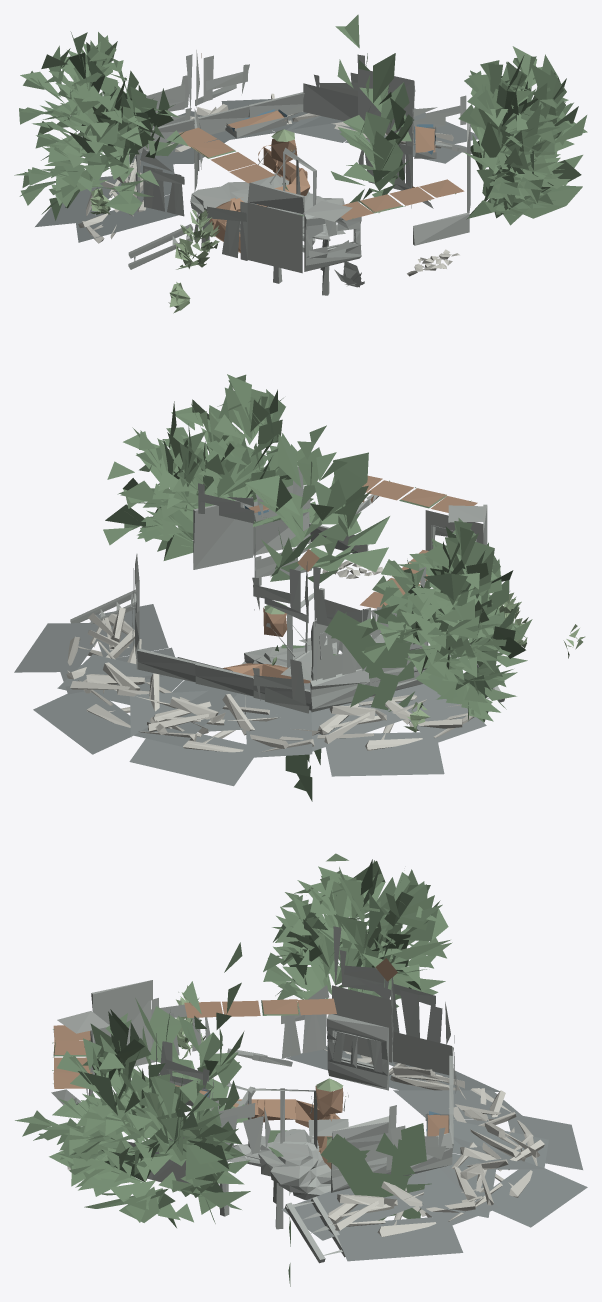
The model's file is water_well_b.glb.
3 views of the same model, one above another, from view 1: azimuth 30°, elevation 25°; view 2: azimuth 150°, elevation 25°; view 3: azimuth 270°, elevation 25° (orthographic). The views are drawn at different scales.
Parts seen in each view (by area): view 1: creeping_plant_fall_a_LOD0, conc_pile_3x6_LOD0, small_planter_soil, driftwood_set_2_LOD0, water_well_handle_LOD0, ground_cloth_a_LOD0; view 2: creeping_plant_fall_a_LOD0, driftwood_set_2_LOD0, conc_pile_3x6_LOD0, ground_cloth_a_LOD0, small_planter_soil, water_well_handle_LOD0; view 3: creeping_plant_fall_a_LOD0, conc_pile_3x6_LOD0, driftwood_set_2_LOD0, ground_cloth_a_LOD0, small_planter_soil, water_well_handle_LOD0.
Part boxes in pixels (bbox=[...]): creeping_plant_fall_a_LOD0: bbox=[14, 14, 587, 225]; conc_pile_3x6_LOD0: bbox=[128, 50, 471, 295]; small_planter_soil: bbox=[179, 53, 464, 252]; driftwood_set_2_LOD0: bbox=[35, 99, 477, 242]; water_well_handle_LOD0: bbox=[90, 129, 294, 313]; ground_cloth_a_LOD0: bbox=[78, 93, 459, 276]; creeping_plant_fall_a_LOD0: bbox=[103, 374, 532, 801]; driftwood_set_2_LOD0: bbox=[14, 604, 486, 786]; conc_pile_3x6_LOD0: bbox=[70, 467, 504, 715]; ground_cloth_a_LOD0: bbox=[66, 560, 474, 752]; small_planter_soil: bbox=[223, 475, 477, 683]; water_well_handle_LOD0: bbox=[264, 576, 585, 732]; creeping_plant_fall_a_LOD0: bbox=[15, 853, 452, 1286]; conc_pile_3x6_LOD0: bbox=[51, 926, 456, 1263]; driftwood_set_2_LOD0: bbox=[281, 1045, 587, 1261]; ground_cloth_a_LOD0: bbox=[67, 1046, 544, 1237]; small_planter_soil: bbox=[53, 958, 448, 1169]; water_well_handle_LOD0: bbox=[176, 985, 346, 1146].
Size of the model in its own units: 25.73 by 17.61 by 24.88.
